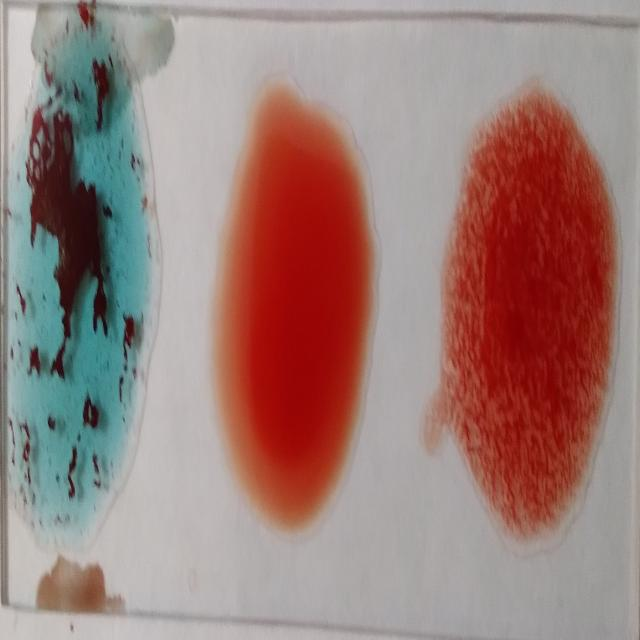A: (9, 20, 158, 555)
D: (452, 104, 621, 547)
